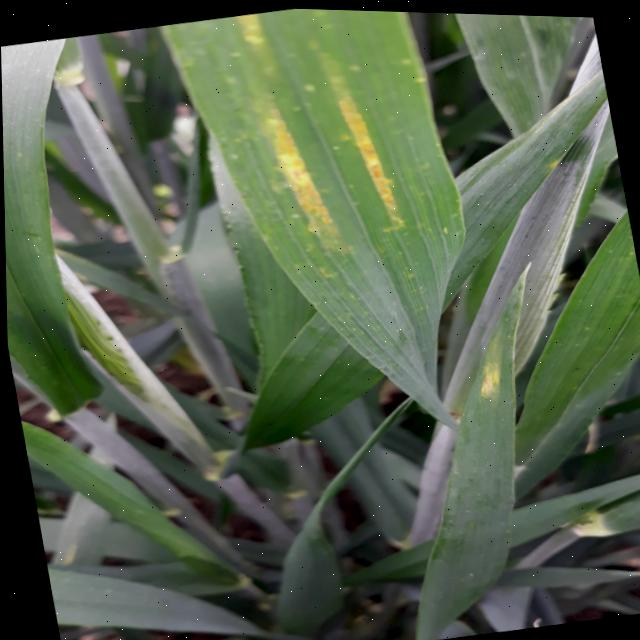yellow_rust: (146, 3, 528, 352), (441, 254, 577, 436)
